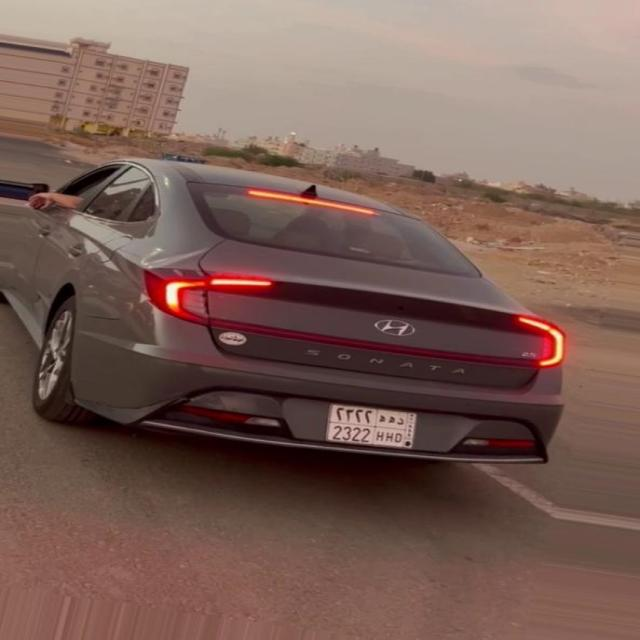Car-plate: (305, 385, 442, 455)
